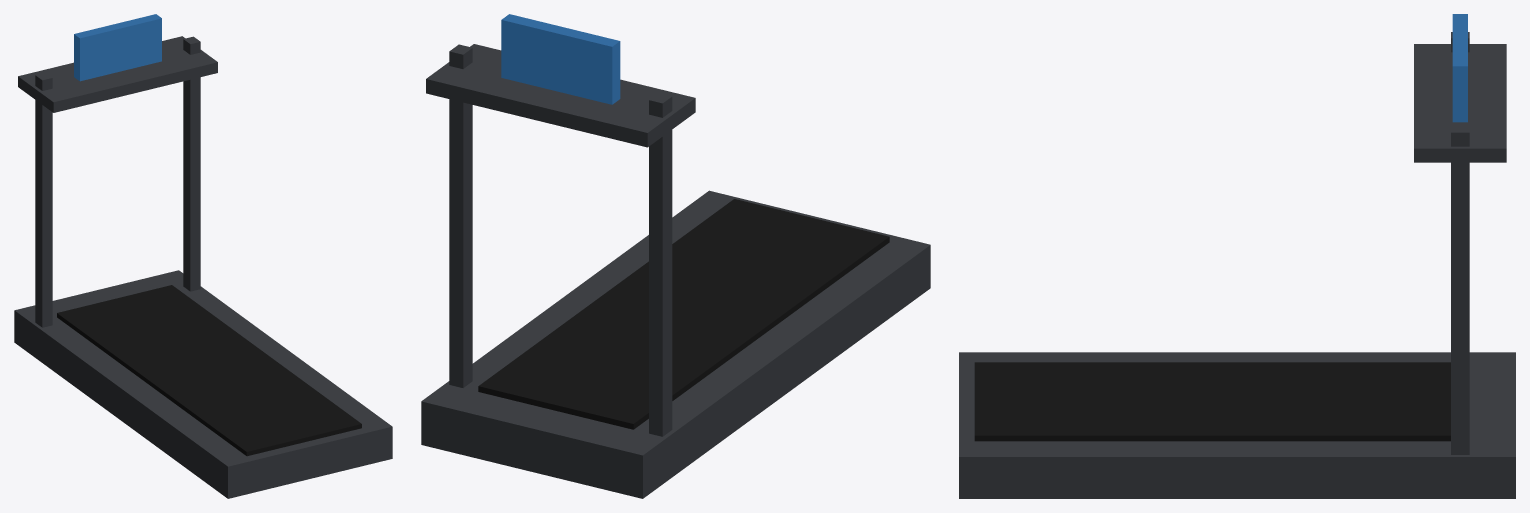
The model's file is treadmill.glb.
3 views of the same model, side by side, from view 1: azimuth 30°, elevation 25°; view 2: azimuth 150°, elevation 25°; view 3: azimuth 270°, elevation 25° (orthographic). The views are drawn at different scales.
Visible parts, largest first — view 1: treadmill; view 2: treadmill; view 3: treadmill.
Part boxes in pixels (bbox=[...]): treadmill: bbox=[14, 14, 392, 498]; treadmill: bbox=[421, 14, 930, 498]; treadmill: bbox=[959, 14, 1515, 498].
Bounding box in the file's own units: 0.8 × 1.45 × 1.8.
